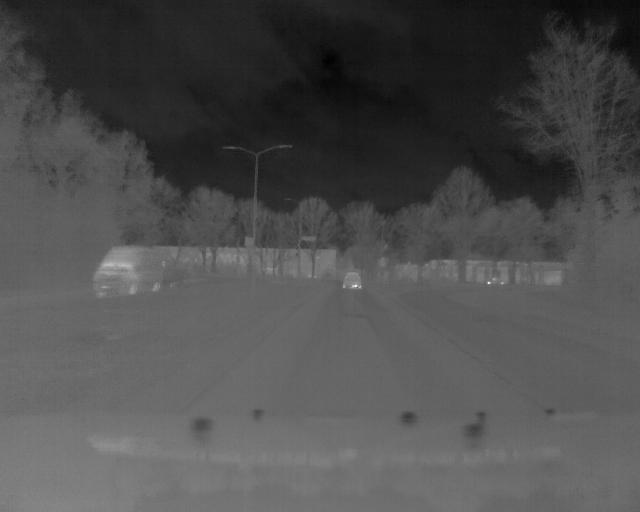car: (92, 244, 166, 303), (340, 265, 364, 295)
